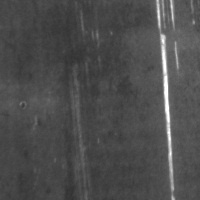scratches: (154, 1, 179, 200)
